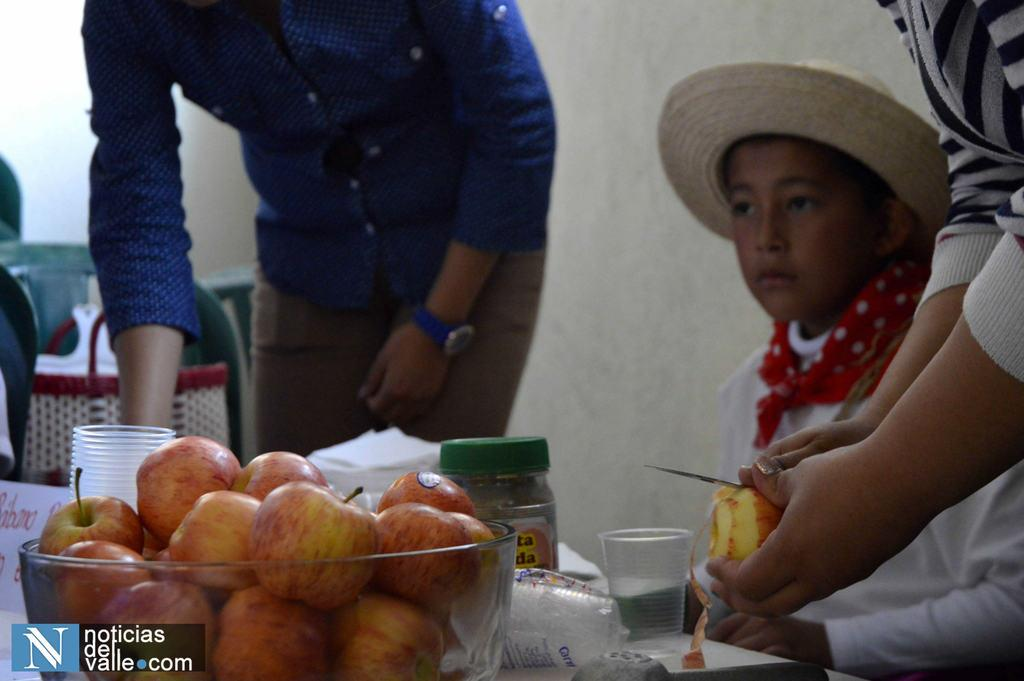Hat: (654, 61, 948, 244)
